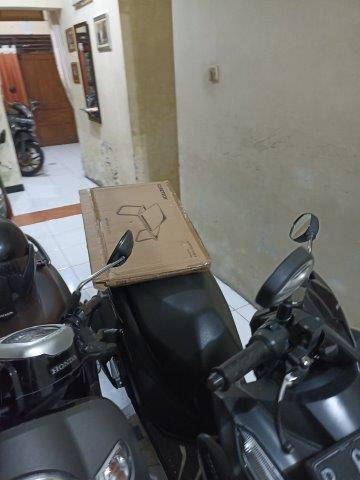kardus: (79, 180, 210, 289)
